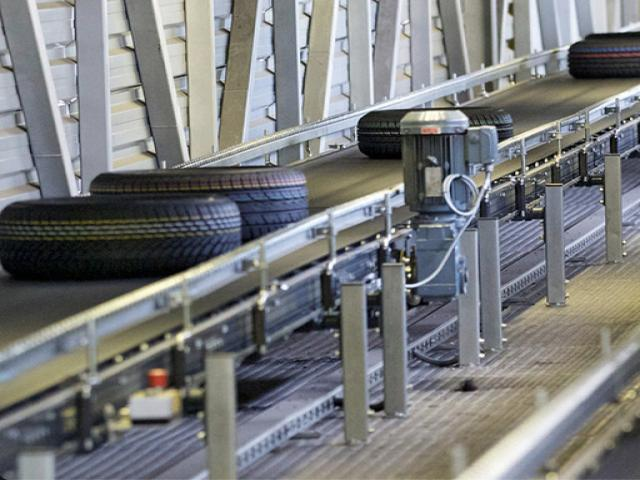conveyor: (2, 50, 640, 365)
